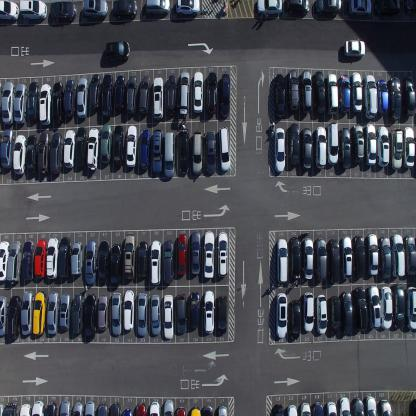car: (5, 294, 21, 340), (6, 239, 22, 284), (390, 233, 405, 278), (363, 73, 377, 119), (391, 283, 405, 329), (354, 286, 368, 332), (37, 131, 51, 176), (32, 289, 45, 337), (1, 81, 15, 125), (38, 82, 52, 126), (49, 0, 77, 22), (378, 285, 392, 329), (367, 286, 381, 330), (84, 291, 96, 342), (123, 233, 136, 280), (13, 82, 27, 125), (402, 126, 416, 169), (378, 235, 392, 278), (275, 292, 288, 338), (178, 127, 190, 176), (13, 134, 27, 176), (388, 128, 402, 170), (51, 80, 64, 125), (315, 237, 328, 282), (218, 124, 230, 172), (162, 292, 174, 340), (0, 128, 14, 169), (49, 131, 62, 175), (314, 125, 327, 169), (376, 124, 389, 168), (192, 129, 204, 176), (276, 237, 288, 284), (402, 76, 416, 116), (57, 236, 70, 279), (46, 236, 59, 279), (274, 126, 286, 172), (273, 72, 285, 118), (313, 69, 325, 115), (341, 290, 353, 336), (21, 290, 33, 336), (105, 40, 130, 62), (76, 76, 89, 118), (34, 238, 47, 280), (21, 240, 34, 282), (126, 123, 138, 168), (20, 0, 47, 20), (389, 76, 401, 121), (340, 235, 352, 280), (328, 238, 340, 283), (203, 289, 215, 334), (85, 240, 97, 285), (46, 290, 58, 335), (63, 128, 76, 169), (351, 123, 364, 164), (71, 293, 84, 334), (87, 127, 99, 171), (26, 133, 38, 177), (152, 77, 164, 121), (287, 68, 299, 112), (364, 122, 376, 166), (366, 232, 378, 276), (111, 292, 123, 336), (98, 239, 110, 283), (63, 78, 76, 118), (164, 131, 175, 178), (152, 128, 163, 175), (150, 239, 161, 286), (300, 70, 312, 113), (326, 72, 338, 115), (353, 235, 365, 278), (302, 237, 314, 280), (59, 292, 72, 331), (205, 129, 216, 175), (102, 73, 113, 119), (290, 236, 301, 282), (217, 231, 228, 277), (75, 125, 87, 167), (350, 71, 362, 113), (289, 299, 301, 341), (139, 127, 150, 172), (179, 70, 190, 115), (190, 230, 201, 275), (110, 242, 121, 287), (138, 75, 151, 113), (27, 82, 39, 123), (338, 127, 350, 168), (403, 235, 415, 276), (329, 295, 341, 336), (122, 290, 134, 331), (192, 70, 203, 114), (206, 71, 217, 115), (289, 122, 300, 166), (343, 37, 365, 59), (176, 232, 187, 276), (126, 75, 138, 115), (338, 73, 350, 113), (204, 230, 214, 278), (112, 0, 137, 19), (327, 122, 338, 165), (113, 75, 126, 111), (82, 0, 108, 18), (165, 73, 176, 115), (303, 290, 314, 332), (150, 294, 161, 336), (220, 72, 230, 118), (100, 123, 111, 164), (316, 293, 327, 334), (216, 294, 227, 335), (176, 293, 187, 334), (405, 286, 415, 331), (163, 239, 173, 284), (137, 292, 147, 337), (377, 78, 389, 115), (70, 240, 82, 277), (113, 124, 123, 168), (137, 240, 148, 280), (302, 127, 312, 170), (189, 290, 200, 329), (0, 0, 20, 21), (314, 0, 342, 15), (0, 240, 10, 282), (256, 0, 283, 15), (374, 0, 401, 15), (175, 0, 200, 16), (90, 74, 101, 110), (98, 294, 109, 330), (145, 0, 171, 15), (285, 0, 310, 15), (348, 0, 372, 15), (0, 296, 8, 337), (2, 400, 18, 416), (351, 397, 365, 415), (365, 395, 377, 415), (379, 398, 392, 416), (338, 396, 350, 415), (31, 400, 44, 416), (163, 398, 174, 416), (44, 402, 58, 416), (311, 402, 324, 416), (149, 400, 160, 416), (84, 400, 95, 416), (299, 401, 311, 415), (135, 402, 147, 416), (97, 402, 109, 416), (18, 402, 30, 416), (60, 400, 70, 416), (404, 0, 415, 14), (326, 401, 337, 415), (110, 402, 121, 416), (72, 402, 83, 416), (273, 403, 285, 415), (286, 404, 298, 415), (202, 404, 212, 415), (218, 405, 228, 415), (190, 405, 200, 415), (176, 406, 186, 416), (122, 407, 134, 415), (0, 401, 4, 415), (412, 398, 415, 416)
